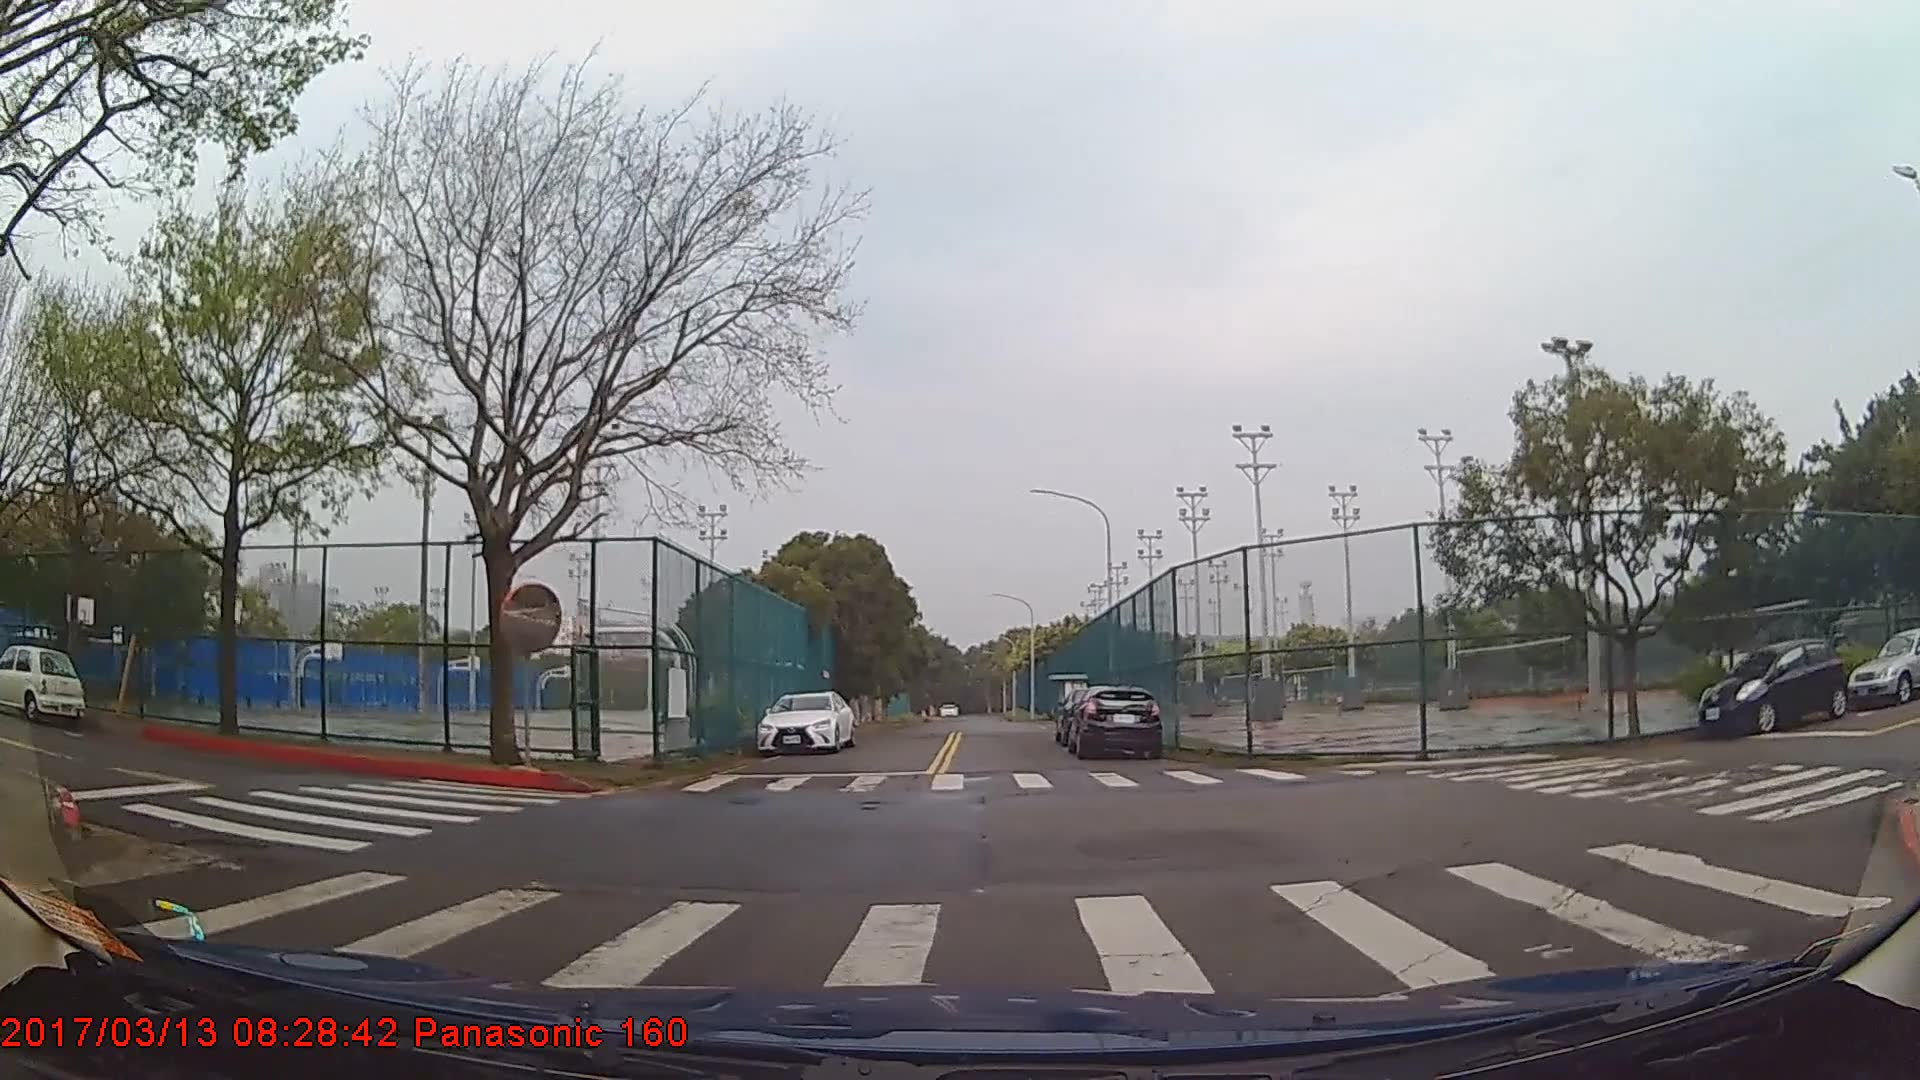vehicle: (1700, 637, 1849, 735), (1069, 683, 1164, 760), (0, 641, 87, 724), (757, 687, 855, 756), (1847, 626, 1920, 705)
